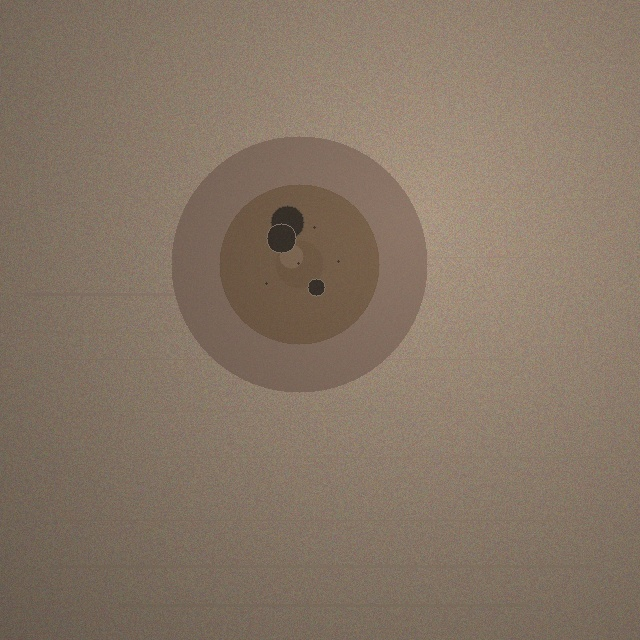shrinkage: (171, 136, 427, 392)
